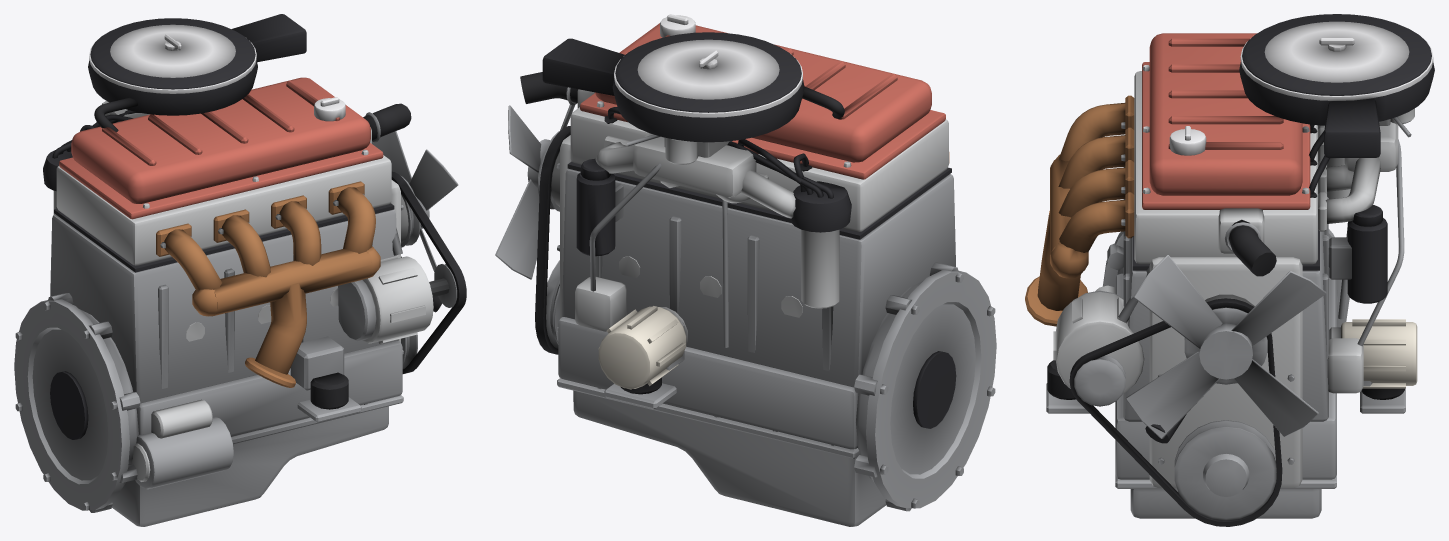
File: eng_i4.glb
3 renders of one model, left to right at view 1: azimuth 30°, elevation 25°; view 2: azimuth 150°, elevation 25°; view 3: azimuth 270°, elevation 25°, orthographic. The views are drawn at different scales.
Visible parts, largest first — view 1: PART; view 2: PART; view 3: PART.
Part boxes in pixels (x1,y1,x2,y2): PART: (14, 14, 466, 526); PART: (495, 14, 996, 526); PART: (1025, 14, 1434, 526).
Bounding box in the file's own units: 0.6224 × 0.658 × 0.536.
